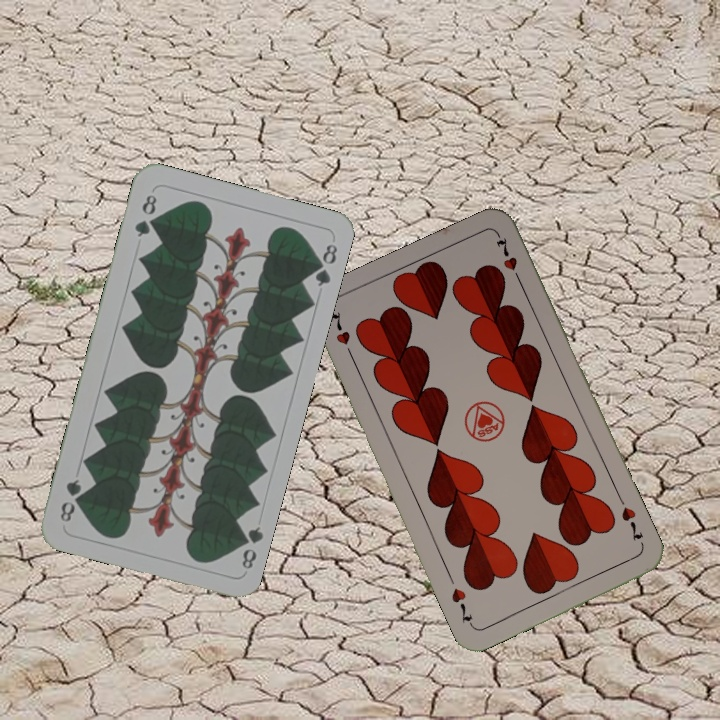G8: (233, 522, 265, 572), (130, 190, 160, 240)
H7: (326, 307, 357, 363), (617, 502, 646, 544)
